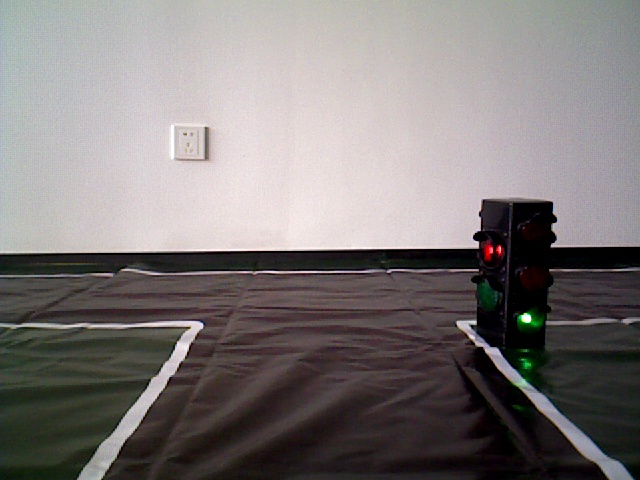green: (480, 201, 543, 336)
